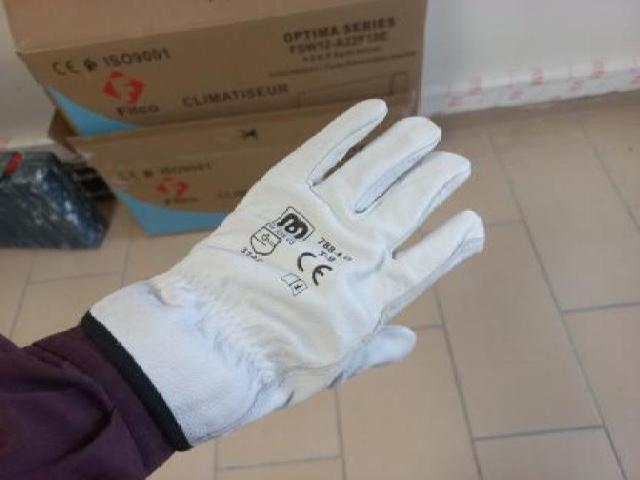Hand-in-Glove: (85, 100, 489, 452)
